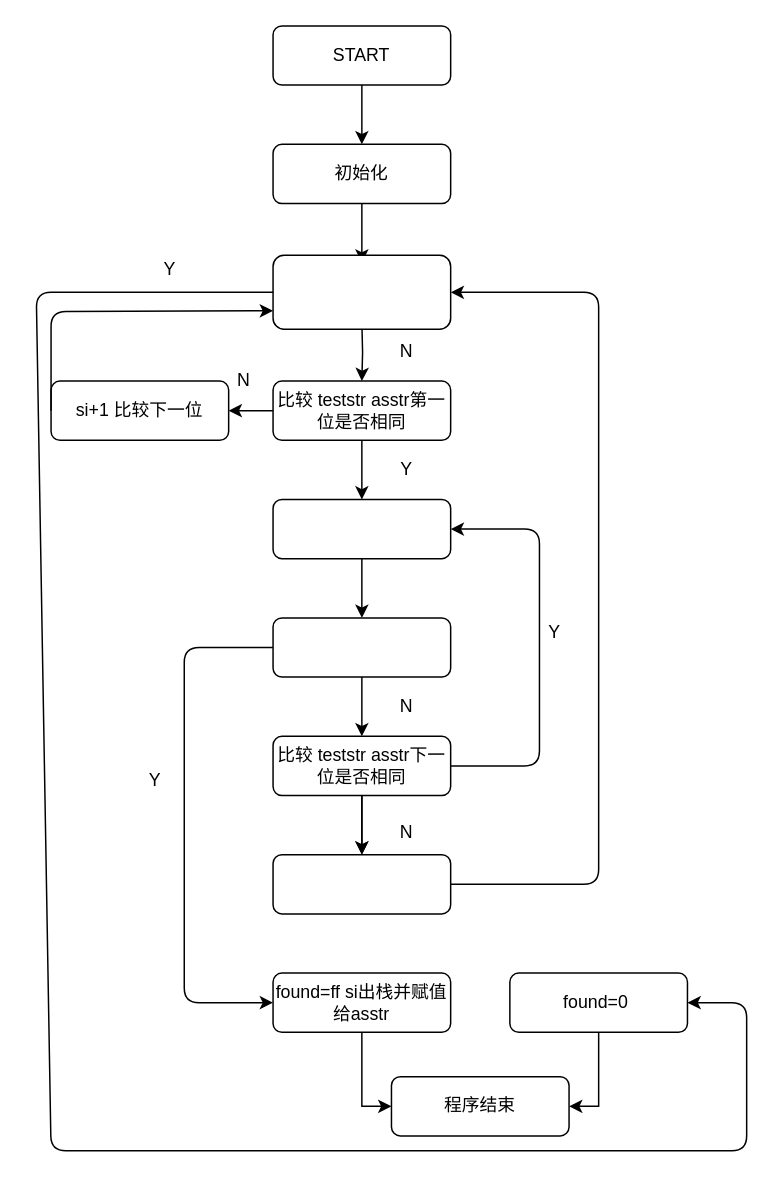
This 784x1188 diagram has some shape labels left out. Here are the shapes that lost their labels. From the top down, the centre of each, then its label:
At point (361, 291): "判断teststr是否结束".
At point (361, 528): "FLAG=1,SI入栈".
At point (361, 646): "判断：asstr是否结束".
At point (361, 883): "FLAG=0,DI指针恢复，SI出栈并且加1".
